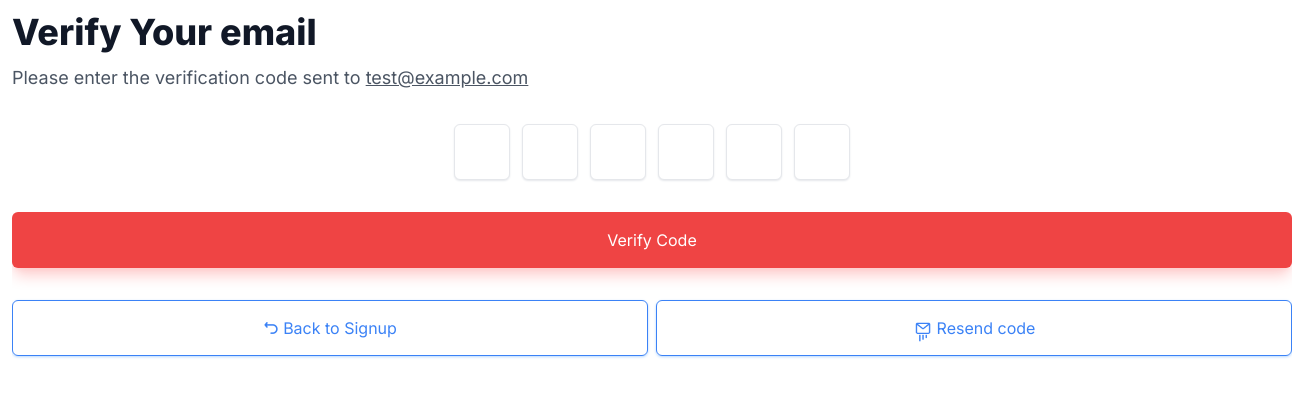
Test case: <VerifyCodeForm /> › 5. Error message from submission overrides feedback message from code resend
The width and height of the screenshot is (1304, 415).
Click the button with test id "ResendCodeButton".
click(974, 328)  # box [656,300,1292,356]
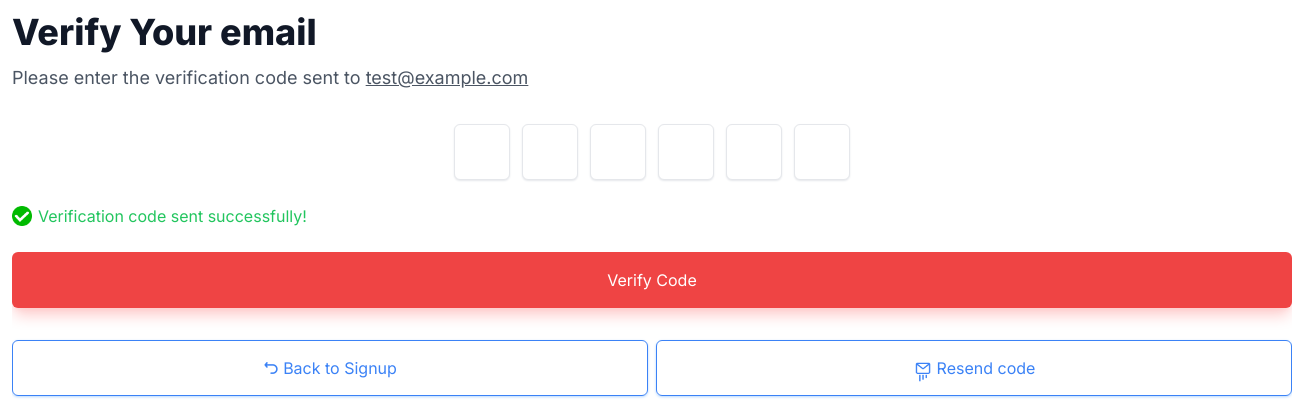
Now the text with test id "FeedbackMessageComponent.SuccessMessage" reads "Verification code sent successfully!", box [38,206,307,226]
Type "1" into the 1st field.
click(482, 152); type("1")  # box [454,124,510,180]
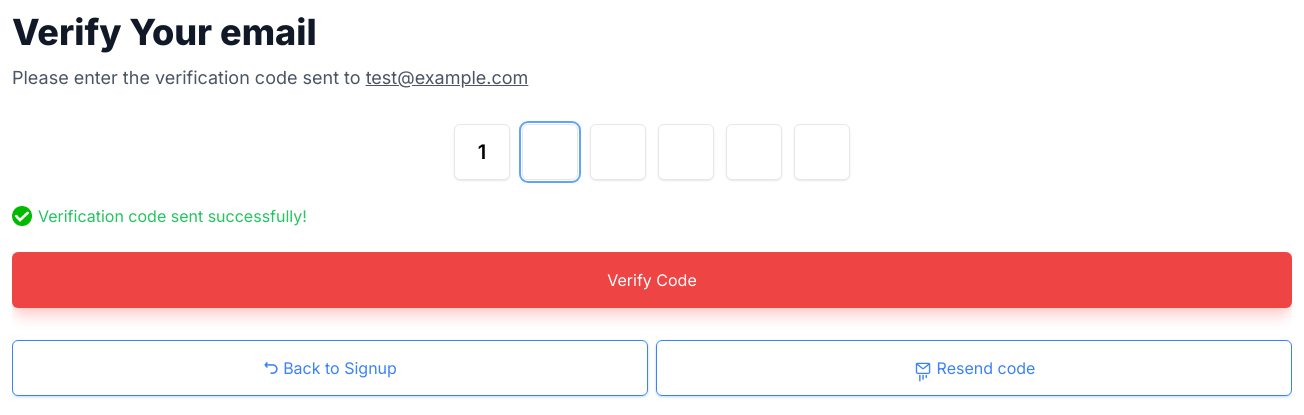
Type "2" into the 2nd field.
click(550, 152); type("2")  # box [522,124,578,180]
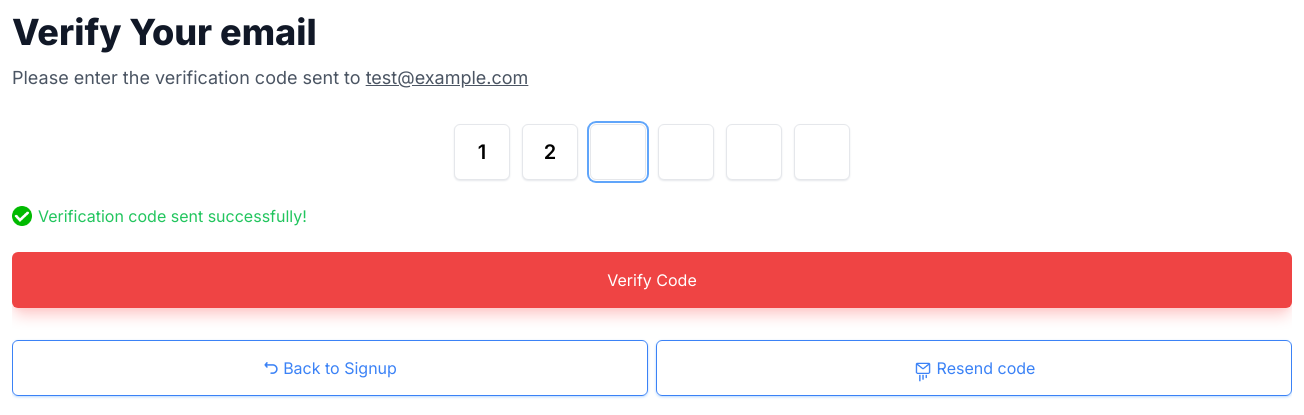
Type "3" into the 3rd field.
click(618, 152); type("3")  # box [590,124,646,180]
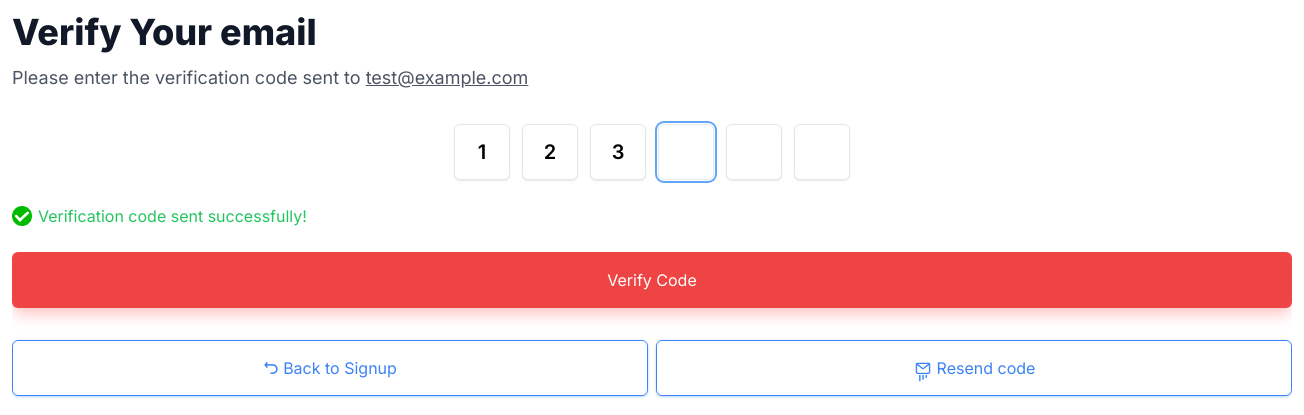
Click the button with test id "SubmittingButton".
click(652, 280)  # box [12,252,1292,308]
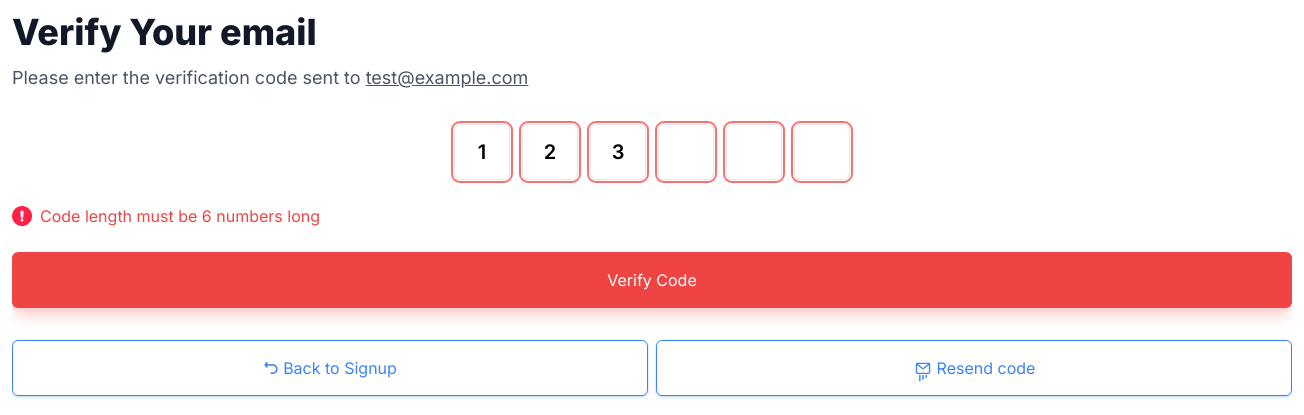
Now the text with test id "ErrorMessageComponent.Message" reads "Code length must be 6 numbers long", box [40,206,320,226]
